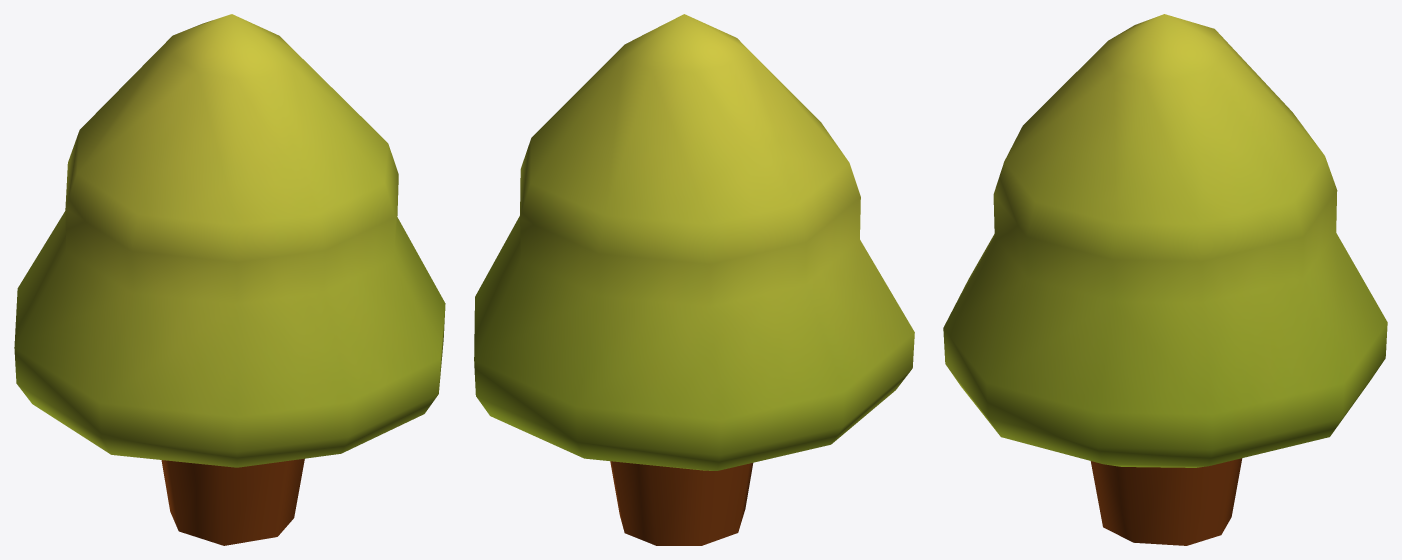
File: SM_Tree_05.fbx
The picture shows the model from 3 angles, left to right: view 1: azimuth 30°, elevation 25°; view 2: azimuth 150°, elevation 25°; view 3: azimuth 270°, elevation 25°; orthographic projection.
Visible parts, largest first — view 1: SM_Tree_05; view 2: SM_Tree_05; view 3: SM_Tree_05.
Boxes of the visible parts, x1=… form: SM_Tree_05: x1=14, y1=14, x2=445, y2=545; SM_Tree_05: x1=474, y1=14, x2=914, y2=545; SM_Tree_05: x1=943, y1=14, x2=1387, y2=545.
Size of the model in its own units: 240 by 309 by 246.
